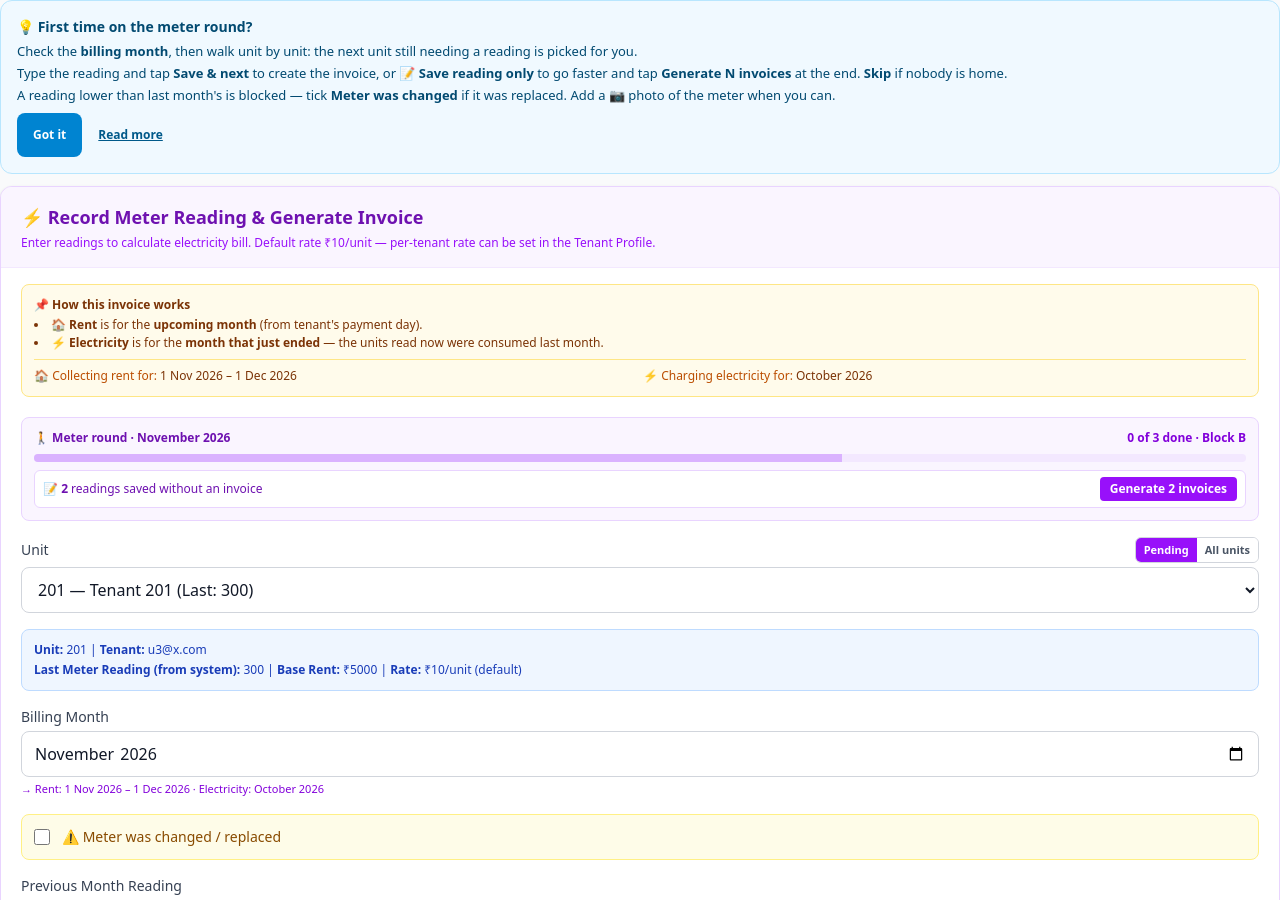
MeterTab — reading checks, drafts and photo › generates invoices for every draft in one go and clears the drafts
Check: the dropdown labelled "Unit" shows "201 — Tenant 201 (Last: 300)", box top-left (21, 567), bottom-right (1259, 613)
Click the button "Generate 2 invoices".
click(1168, 489)  # box top-left (1100, 477), bottom-right (1237, 501)
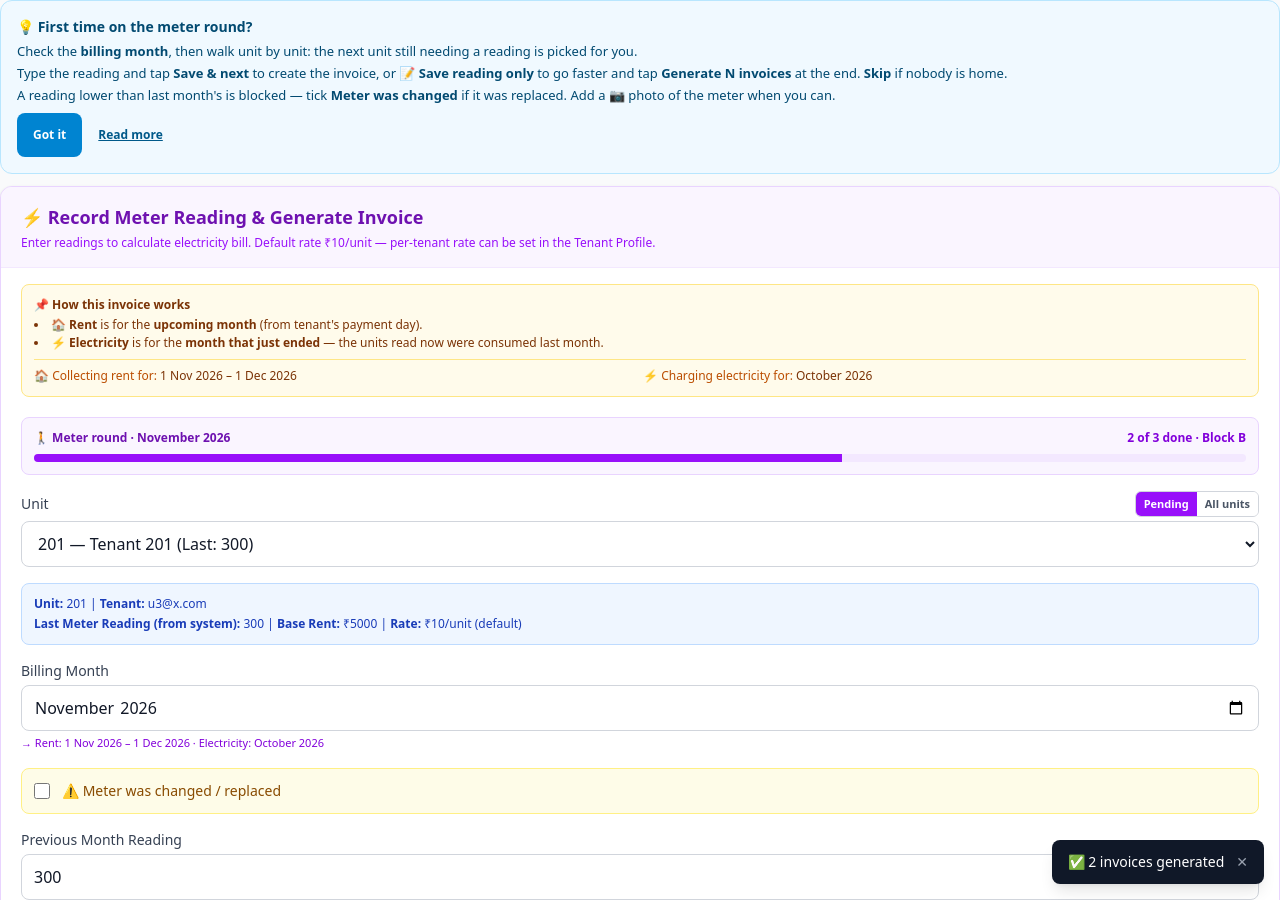
Check: the message shows "2 invoices generated", box top-left (1068, 852), bottom-right (1224, 871)
Check: the text "2 of 3 done · Block B" is shown, box top-left (1127, 430), bottom-right (1246, 446)
